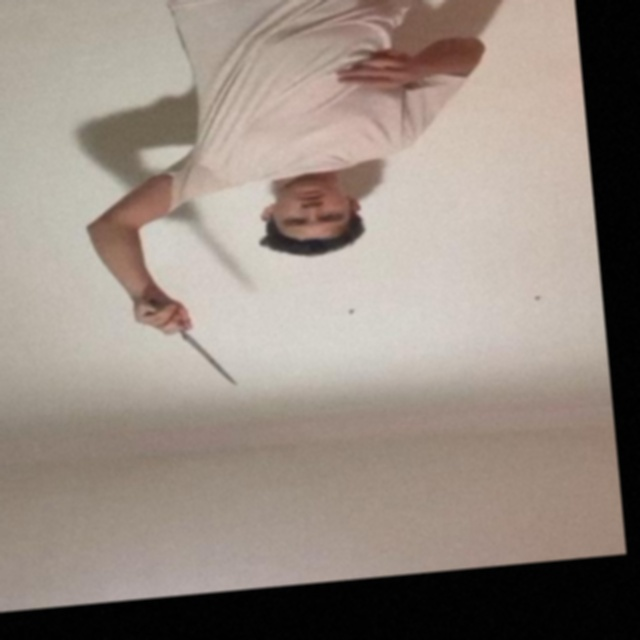Sharp-Object: (184, 333, 238, 390)
